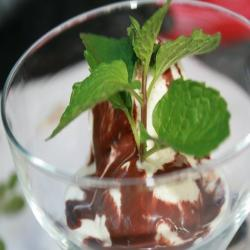icecream: (66, 124, 234, 249)
